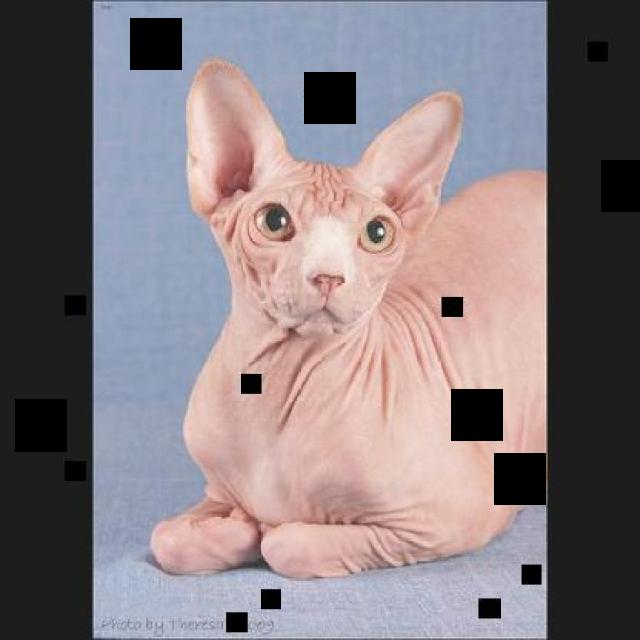unauthorized: (148, 55, 546, 580)
